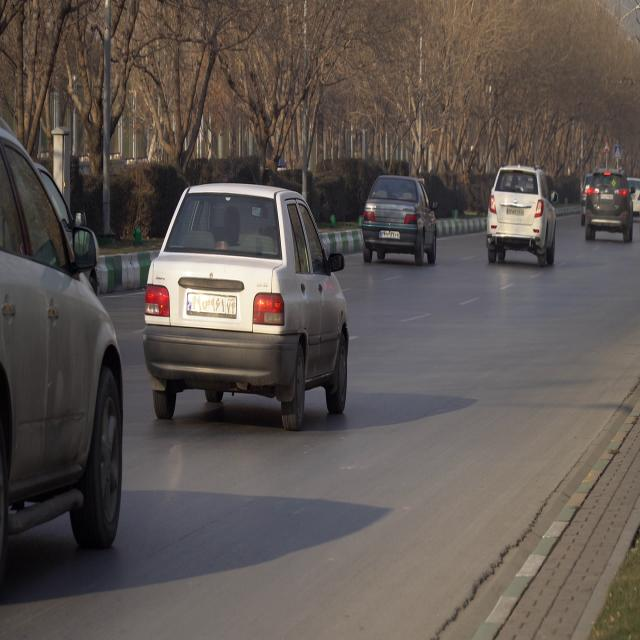truck: (0, 130, 122, 560), (142, 182, 352, 414), (488, 162, 558, 268), (360, 175, 438, 265), (583, 170, 631, 245)
